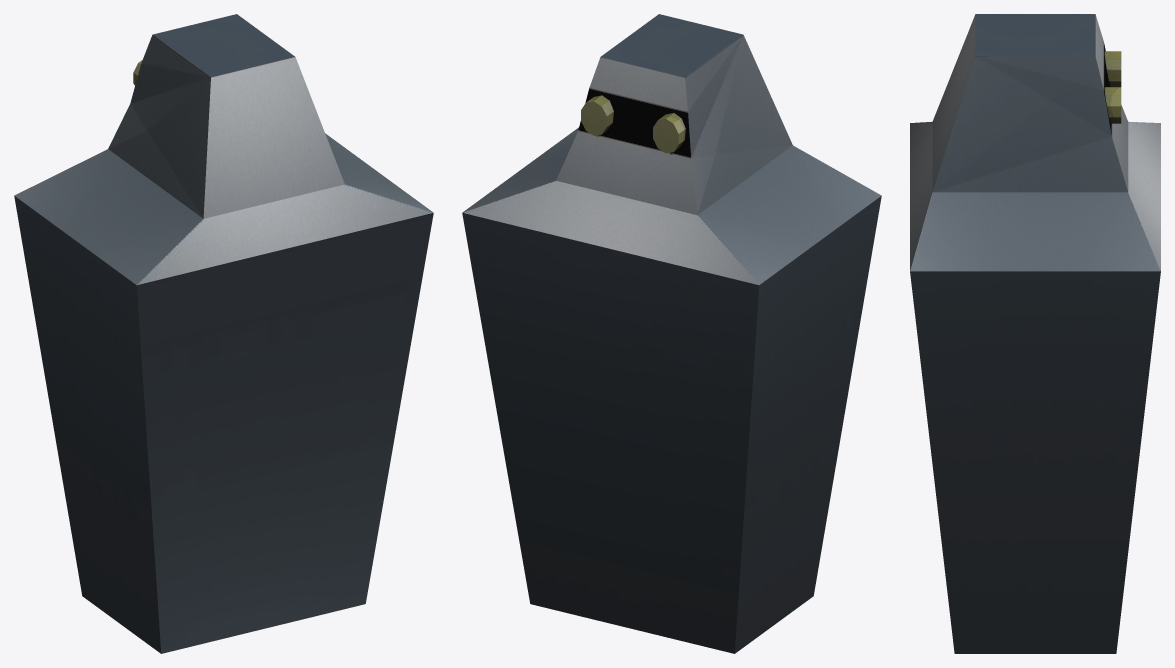
Rendered from worker2.dae.
The picture shows the model from 3 angles, left to right: view 1: azimuth 30°, elevation 25°; view 2: azimuth 150°, elevation 25°; view 3: azimuth 270°, elevation 25°; orthographic projection. The views are drawn at different scales.
Visible parts, largest first — view 1: worker; view 2: worker; view 3: worker.
Part boxes in pixels (bbox=[...]): worker: bbox=[14, 14, 433, 653]; worker: bbox=[462, 14, 881, 653]; worker: bbox=[910, 14, 1160, 653].
Size of the model in its own units: 1.96 by 1.4 by 3.49.
1 material, 1 textured.
